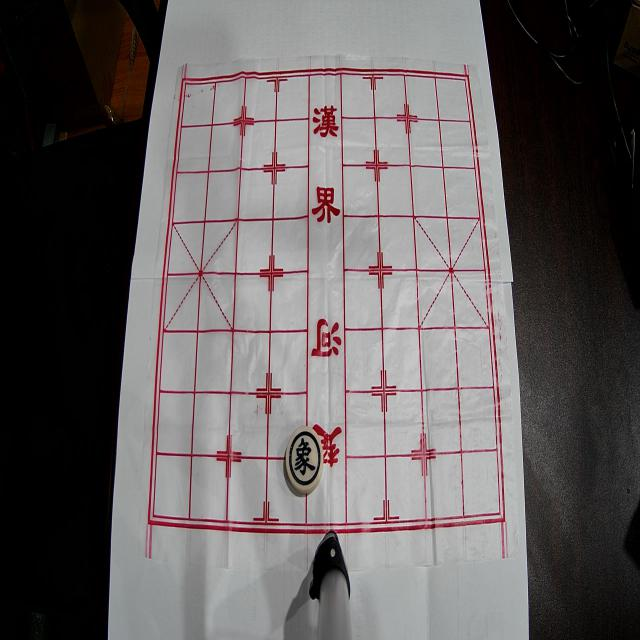black-elephant: (286, 426, 324, 494)
